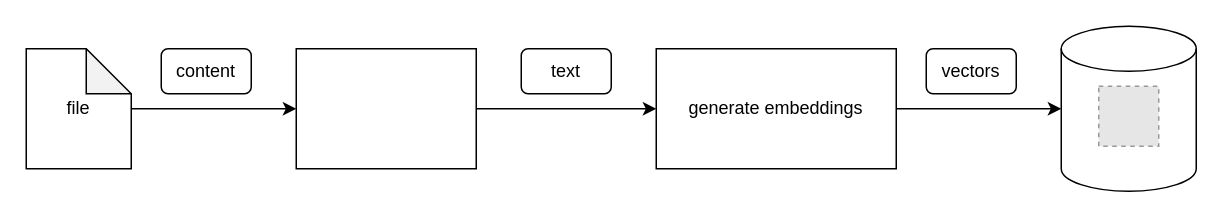
Image size: 1223x218. Some labels were removed from this diagram. Grey dashed boxes stand in for pictures. Here are the shapes that lost their labels. From the top down, the box of each, then its label:
(295, 47, 476, 169): extract text
(1060, 25, 1196, 191): PGVector
